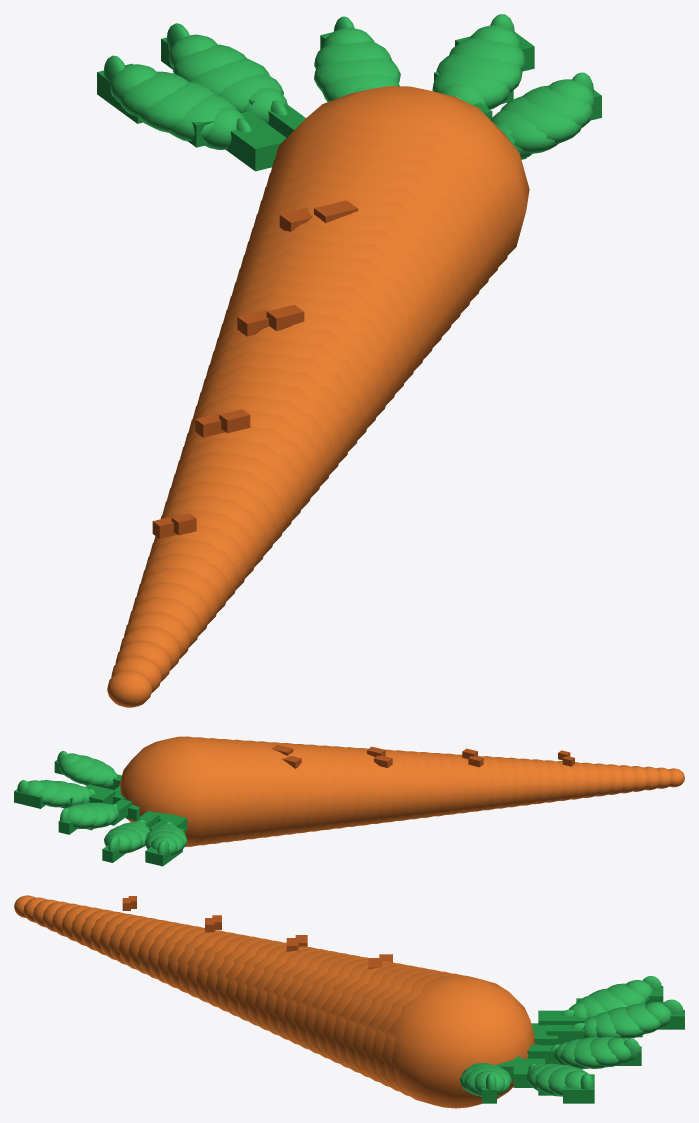
Rendered from CMU3DCarrotRoot.glb.
The picture shows the model from 3 angles, top to bottom: view 1: azimuth 30°, elevation 25°; view 2: azimuth 150°, elevation 25°; view 3: azimuth 270°, elevation 25°; orthographic projection. The views are drawn at different scales.
Visible parts, largest first — view 1: tapered carrot (×38), carrot greens (×15), carrot leafy stem; view 2: tapered carrot (×40), carrot greens (×16), carrot leafy stem (×6); view 3: tapered carrot (×36), carrot greens (×15), carrot leafy stem (×5).
Part boxes in pixels (left/top/right/bottom): tapered carrot (×38): left=107, top=86, right=529, bottom=707; carrot greens (×15): left=119, top=38, right=593, bottom=153; carrot leafy stem: left=225, top=111, right=286, bottom=171; tapered carrot (×40): left=119, top=736, right=684, bottom=846; carrot greens (×16): left=24, top=755, right=187, bottom=855; carrot leafy stem (×6): left=14, top=784, right=187, bottom=866; tapered carrot (×36): left=52, top=903, right=535, bottom=1108; carrot greens (×15): left=464, top=983, right=671, bottom=1096; carrot leafy stem (×5): left=513, top=1010, right=594, bottom=1103.
Bounding box in the file's own units: 0.5718 × 0.1216 × 0.6346.
